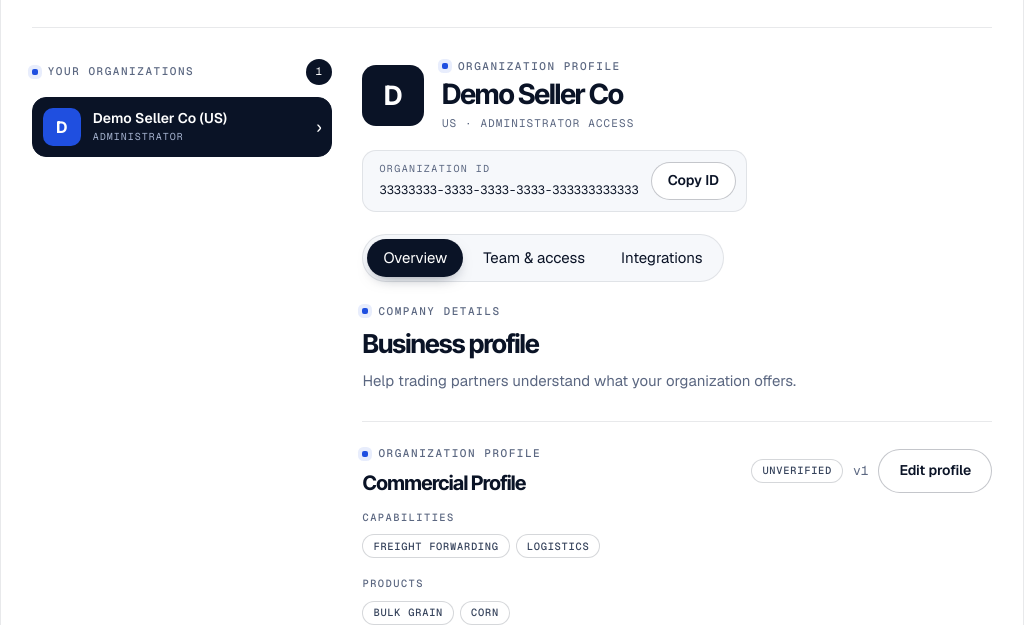
Scenario: OrganizationsPanel › allows admin to edit and save organization profile
Click the button "Edit profile": point(935, 471) x1=878 y1=449 x2=992 y2=493
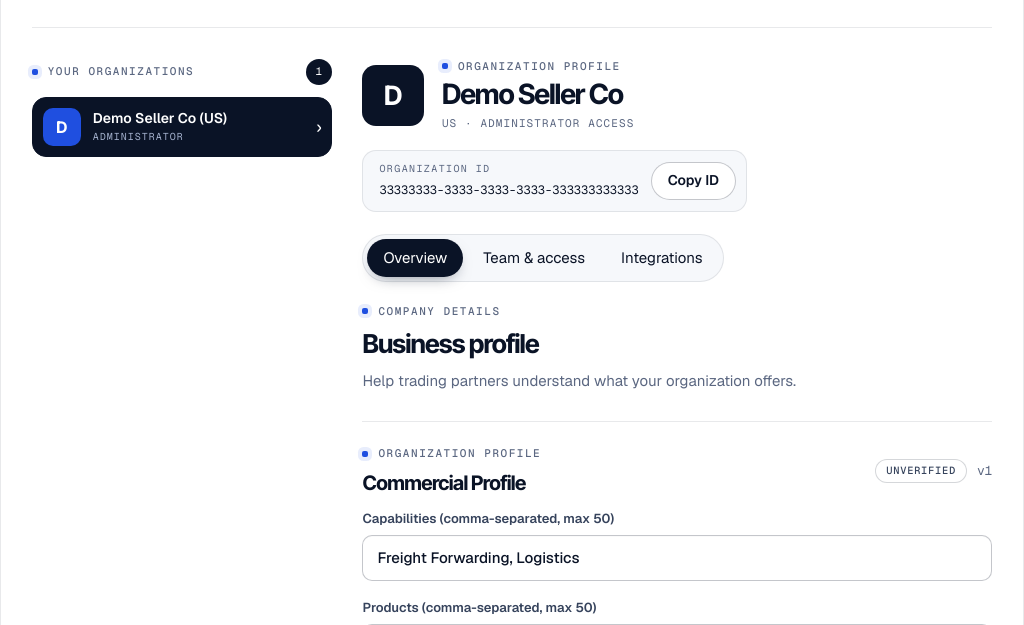
Replace the text in the field labelled "Capabilities (comma-separated, max 50)" with "Freight Forwarding, Logistics, Cold Storage": point(677, 558) x1=362 y1=535 x2=992 y2=581
(page scrolled)
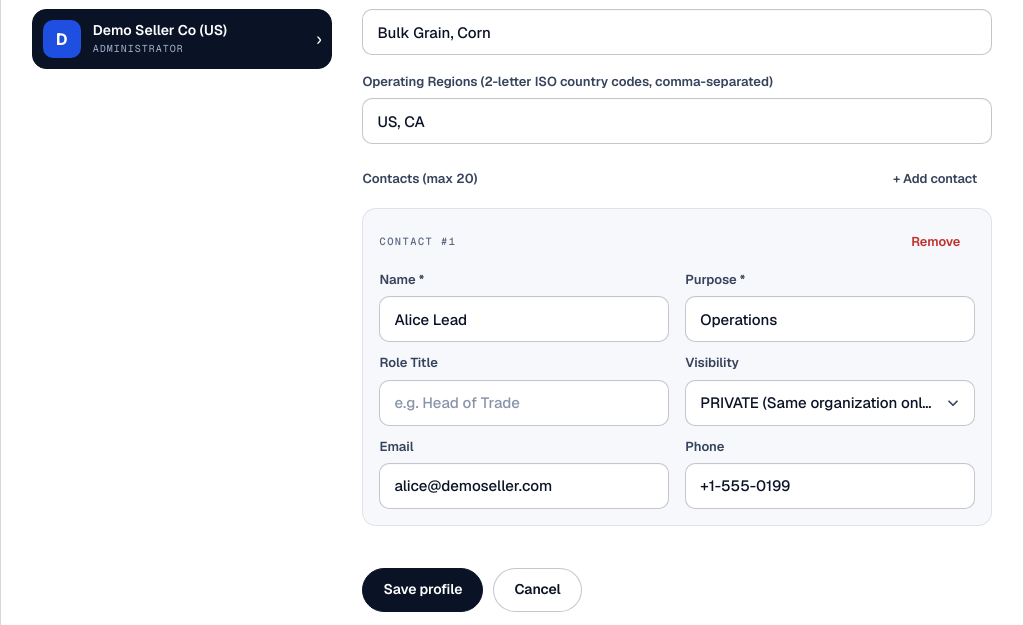
Click the button "Save profile": point(423, 590) x1=362 y1=568 x2=483 y2=612
(page scrolled)
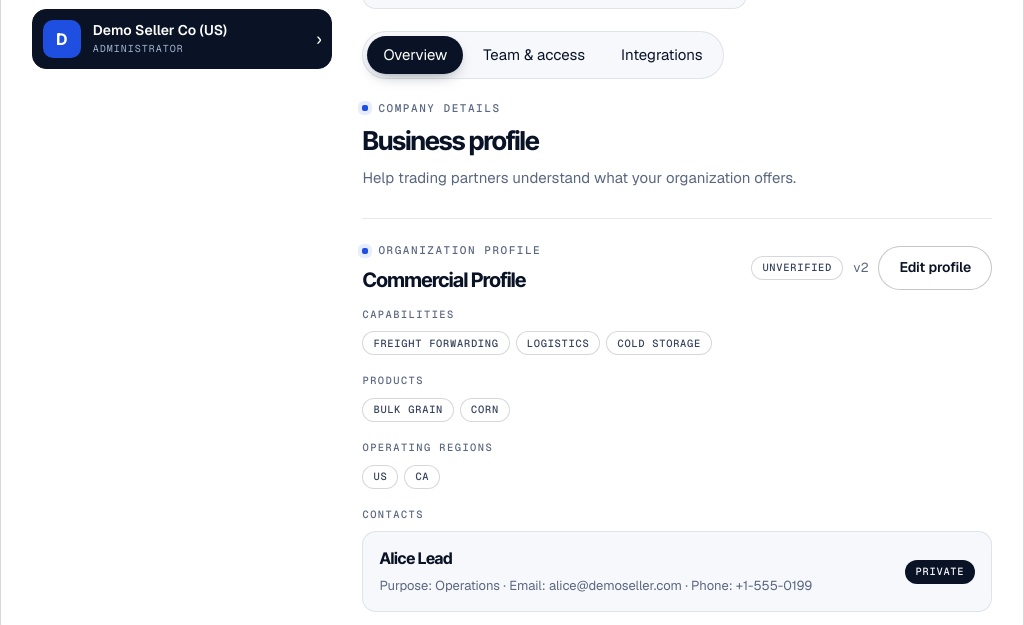
Check: the text "Cold Storage" is shown, box x1=606 y1=331 x2=712 y2=355
Check: the text "v2" is shown, box x1=853 y1=258 x2=868 y2=278
